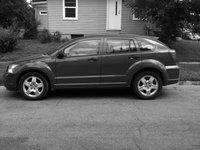car: (8, 34, 182, 102)
